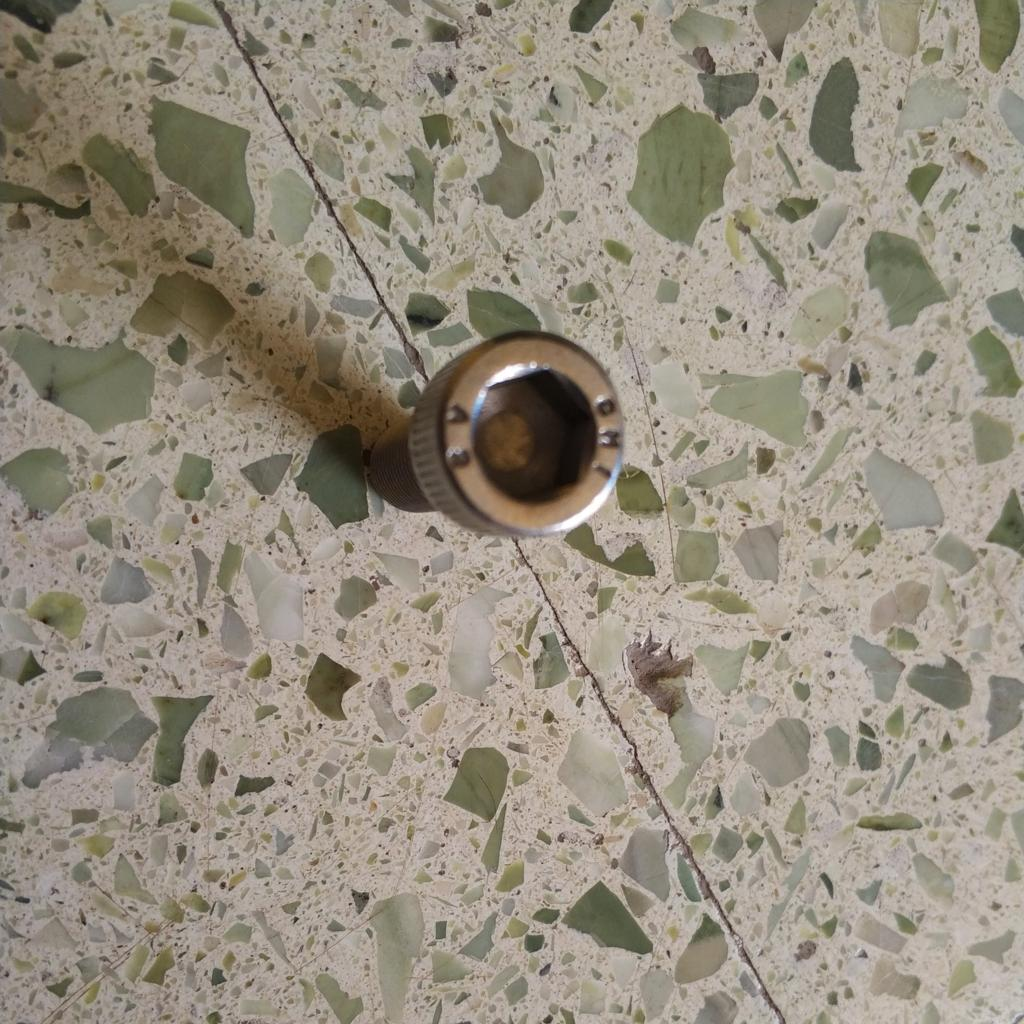screwtype1silver: (364, 325, 631, 561)
